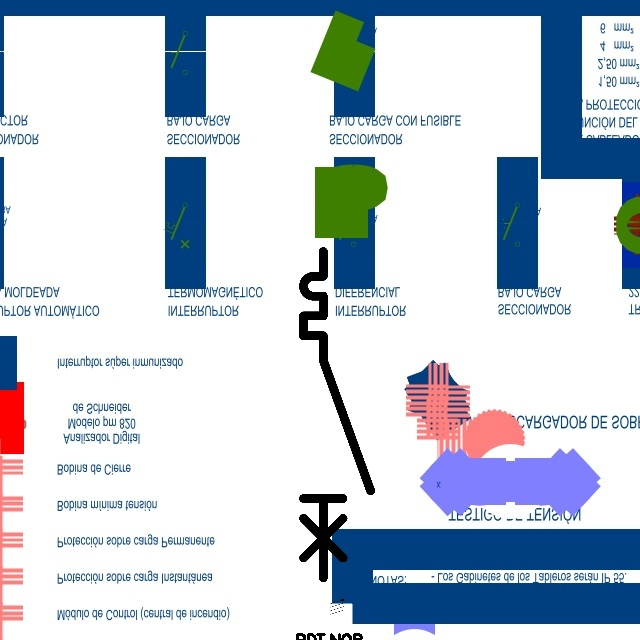interruptor_termomagnetico: (295, 243, 379, 586)
